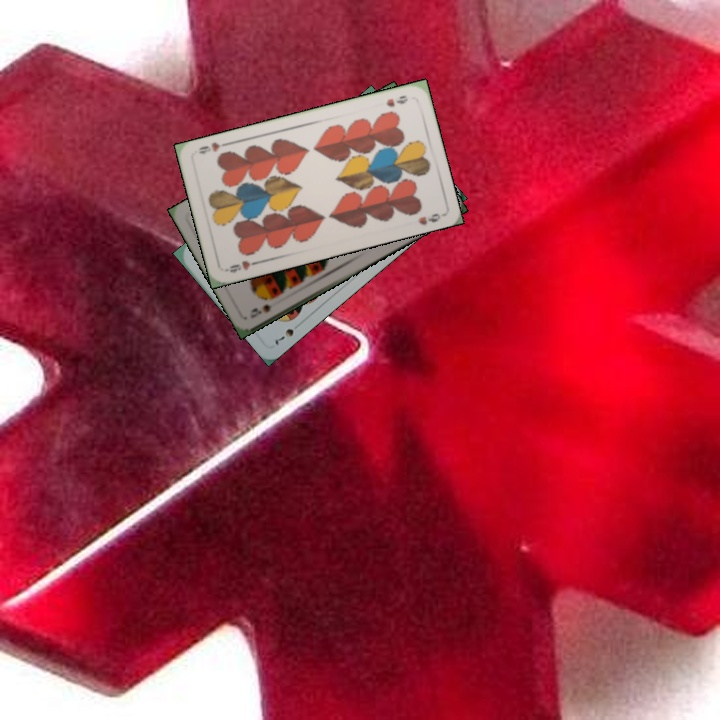H9: (222, 256, 262, 276), (382, 91, 410, 110)
S7: (271, 318, 304, 349)
S9: (246, 300, 275, 321)
